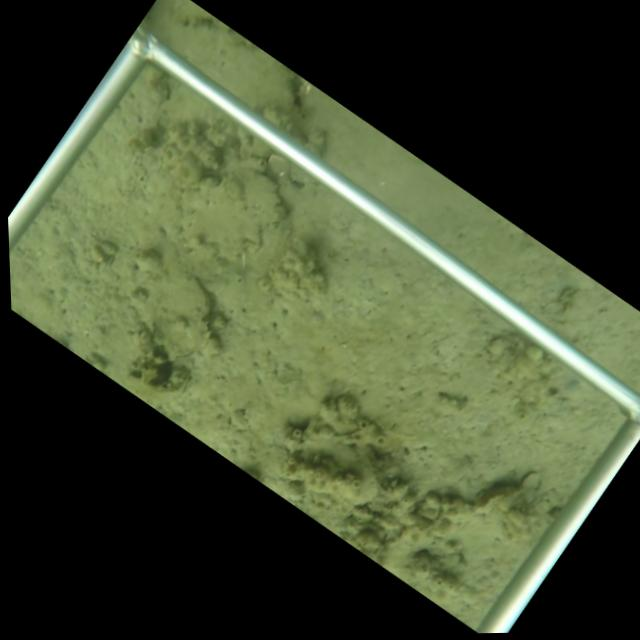Oyster-Indeterminate: (112, 225, 214, 362), (435, 487, 520, 523)
